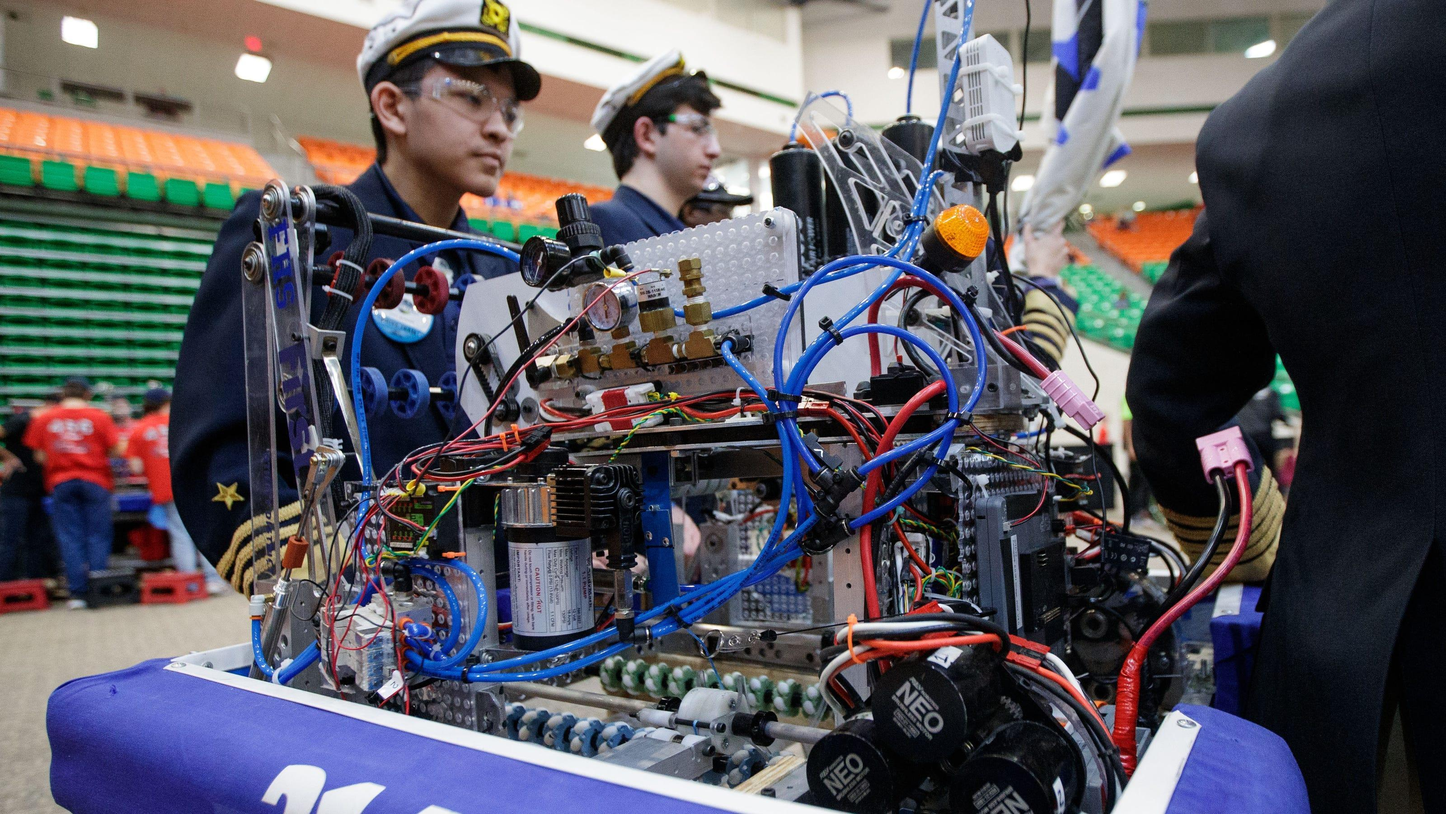robot: (41, 0, 1319, 814)
